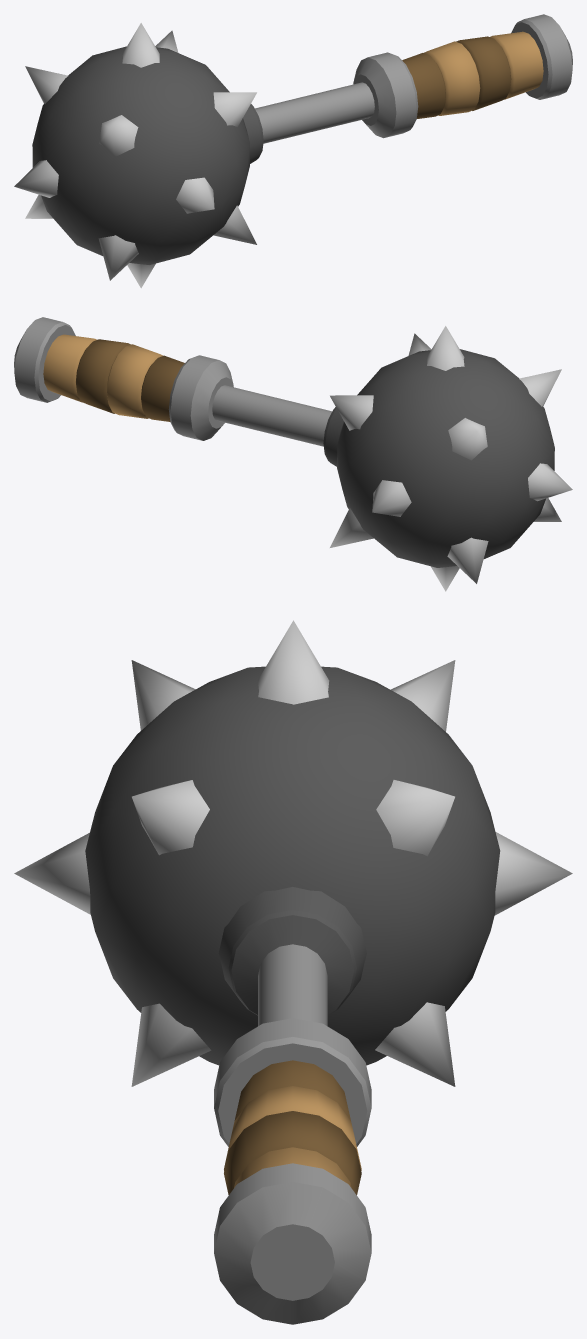
The model's file is Entity_Mace.FBX.
The picture shows the model from 3 angles, top to bottom: view 1: azimuth 30°, elevation 25°; view 2: azimuth 150°, elevation 25°; view 3: azimuth 270°, elevation 25°; orthographic projection. The views are drawn at different scales.
Parts seen in each view (by area): view 1: Handle; view 2: Handle; view 3: Handle.
Boxes of the visible parts, x1,y1,x2,y2 form: Handle: [14, 14, 572, 288]; Handle: [14, 317, 572, 591]; Handle: [14, 620, 572, 1324].
Bounding box in the file's own units: 174 × 80.82 × 80.82.
